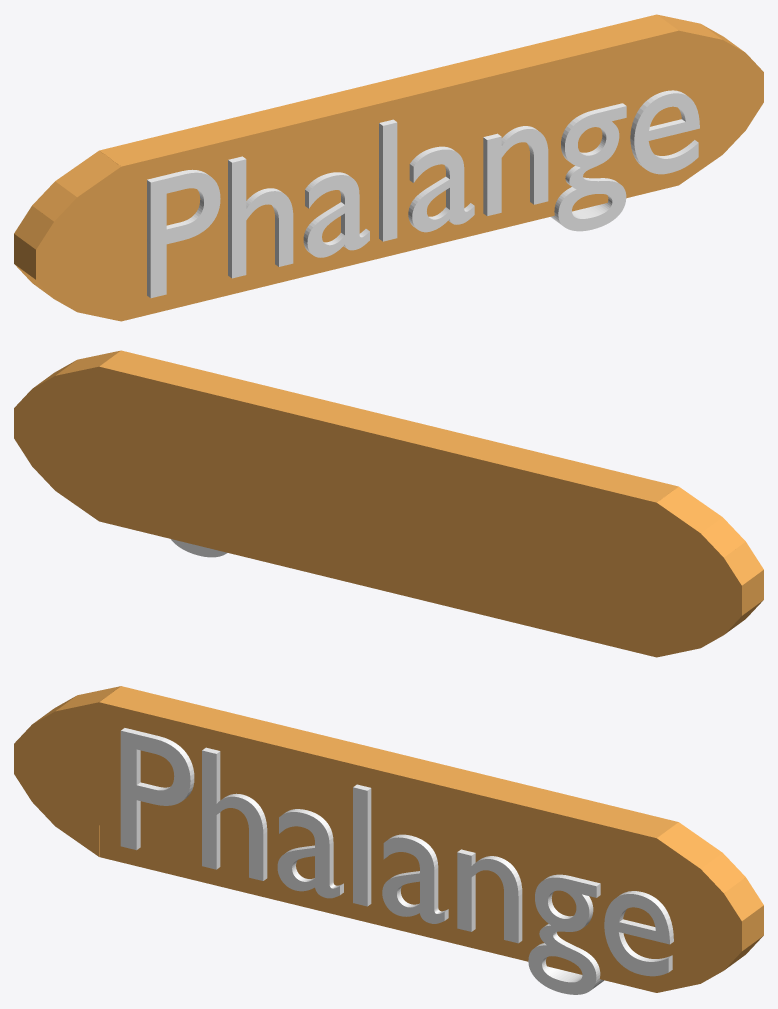
File: txtPhalange.fbx
The picture shows the model from 3 angles, top to bottom: view 1: azimuth 30°, elevation 25°; view 2: azimuth 150°, elevation 25°; view 3: azimuth 330°, elevation 25°; orthographic projection.
Parts seen in each view (by area): view 1: TagContainer.013, Text.013; view 2: TagContainer.013; view 3: TagContainer.013, Text.013.
Part boxes in pixels (x1,y1,x2,y2): TagContainer.013: (14, 14, 763, 321); Text.013: (147, 90, 699, 298); TagContainer.013: (14, 350, 763, 657); TagContainer.013: (14, 686, 763, 992); Text.013: (120, 728, 673, 994).
Bounding box in the file's own units: 203 × 46.43 × 12.58.
